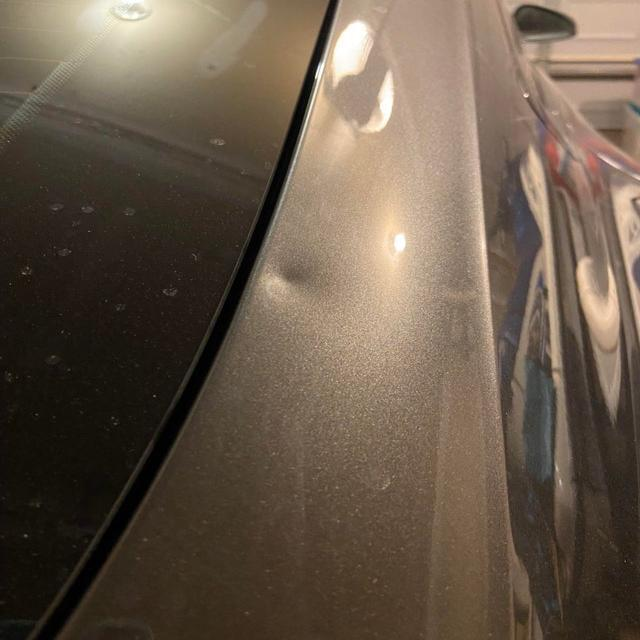Dent: (268, 246, 335, 314)
